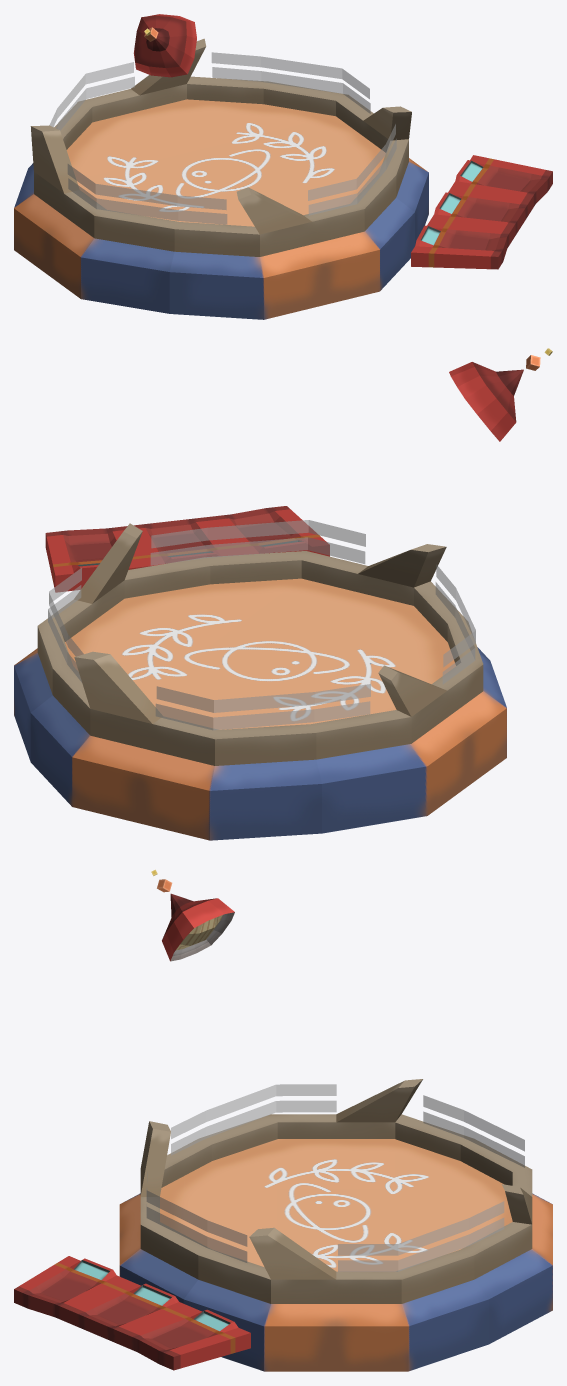
Rendered from ringue.fbx.
The picture shows the model from 3 angles, top to bottom: view 1: azimuth 30°, elevation 25°; view 2: azimuth 150°, elevation 25°; view 3: azimuth 270°, elevation 25°; orthographic projection. The views are drawn at different scales.
Visible parts, largest first — view 1: ring, corda, mesa, spot; view 2: ring, corda, mesa, spot; view 3: ring, mesa, corda, spot.
Part boxes in pixels (box(x1,y1,x2,y2)): ring: box(14, 38, 428, 319); corda: box(49, 52, 396, 224); mesa: box(411, 155, 552, 269); spot: box(133, 14, 196, 77); ring: box(14, 523, 506, 840); corda: box(48, 520, 475, 730); mesa: box(45, 506, 329, 592); spot: box(449, 348, 552, 441); ring: box(119, 1079, 552, 1371); mesa: box(14, 1256, 250, 1370); corda: box(146, 1084, 524, 1271); spot: box(151, 869, 234, 961).
Size of the model in its own units: 247 by 167 by 249.
